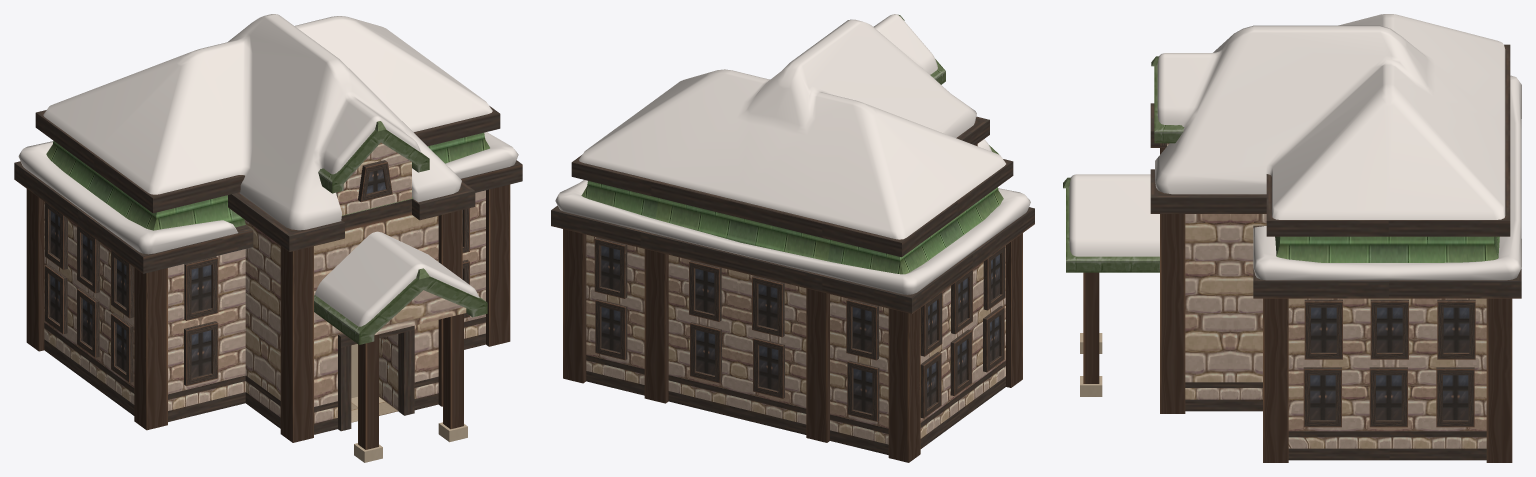
File: Mansion2 - Snow.fbx
3 renders of one model, left to right at view 1: azimuth 30°, elevation 25°; view 2: azimuth 150°, elevation 25°; view 3: azimuth 270°, elevation 25°, orthographic. The views are drawn at different scales.
Parts seen in each view (by area): view 1: obj; view 2: obj; view 3: obj.
Boxes of the visible parts, x1=… form: obj: x1=14, y1=14, x2=522, y2=462; obj: x1=551, y1=14, x2=1034, y2=462; obj: x1=1063, y1=14, x2=1521, y2=462.
Bounding box in the file's own units: 7.15 × 5.93 × 7.2.
